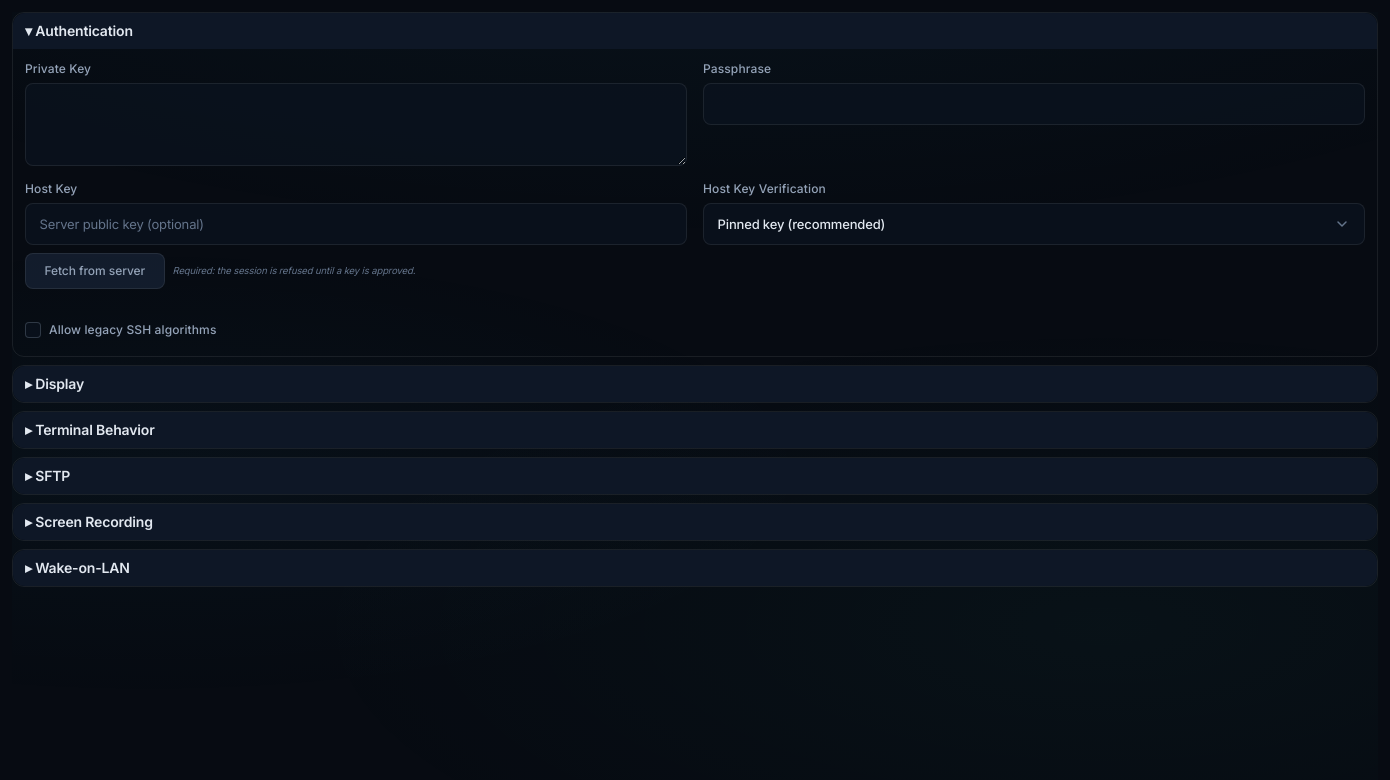
it: SshSections host key settings › fetches the host key with the unsaved legacy choice
The image size is (1390, 780).
Click the checkbox labelled "Allow legacy SSH algorithms" at (33, 330), box [25,322,41,338]
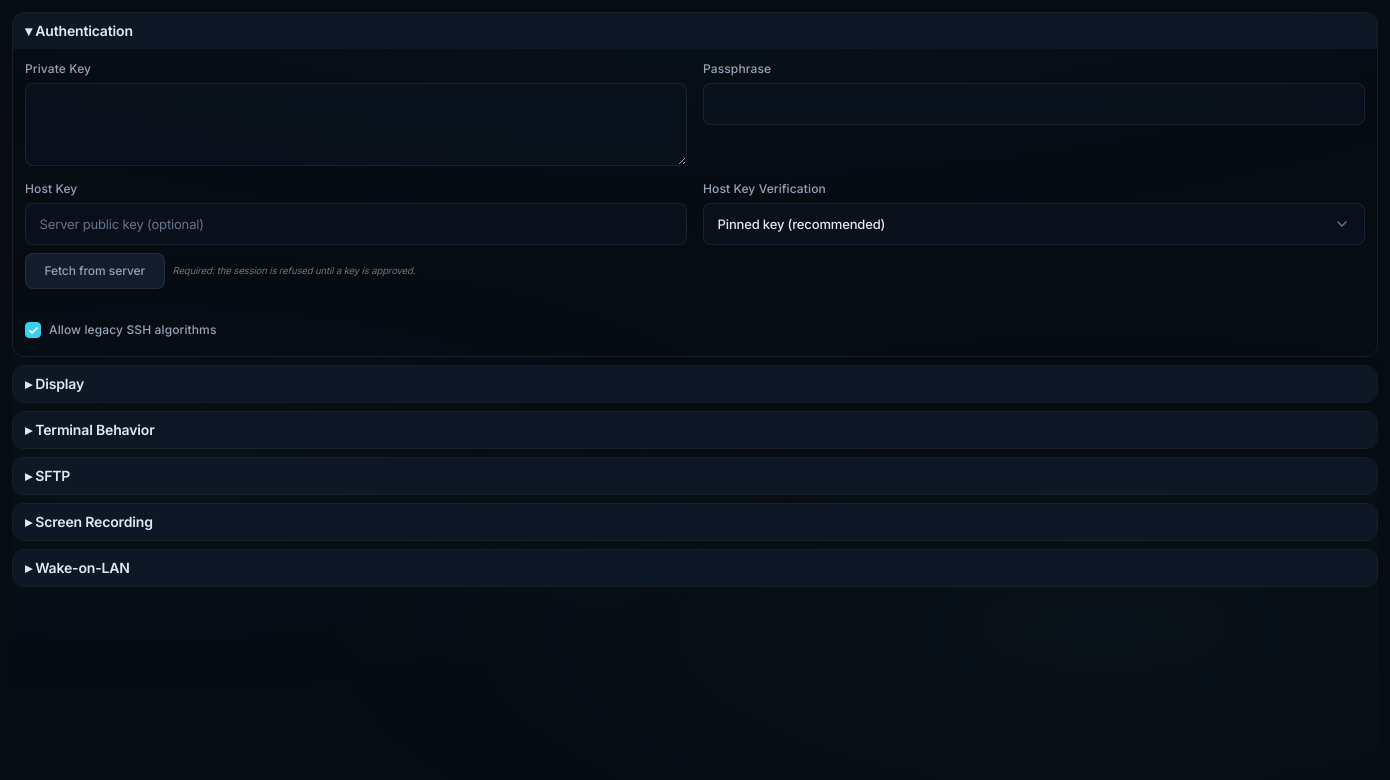
Click the button "Fetch from server" at (95, 271), box [25,253,164,289]
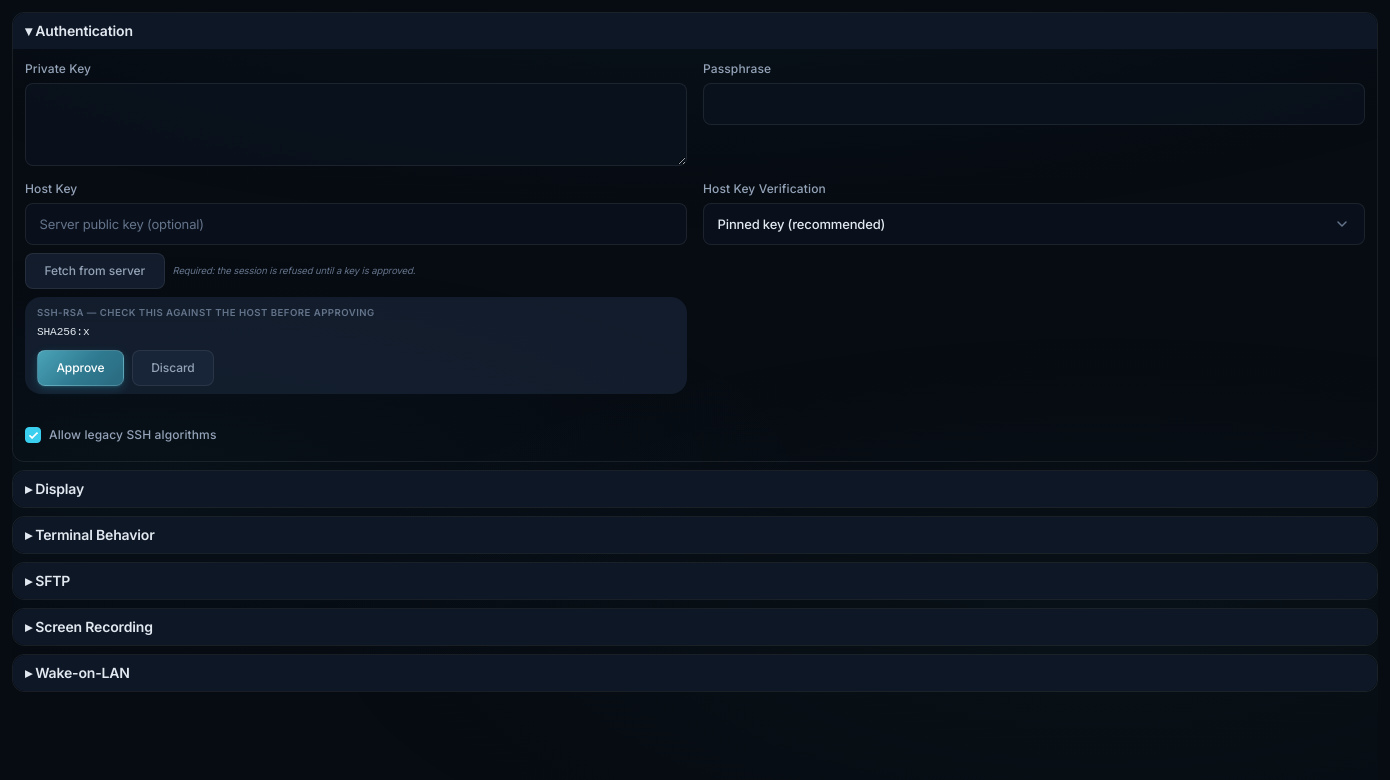
Expected: the text "SHA256:x" is shown, [37,326,89,338]
